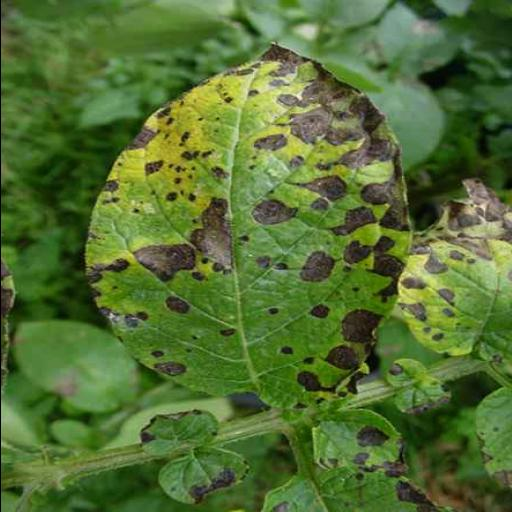Early Blight: (84, 38, 408, 412), (393, 179, 511, 361)
